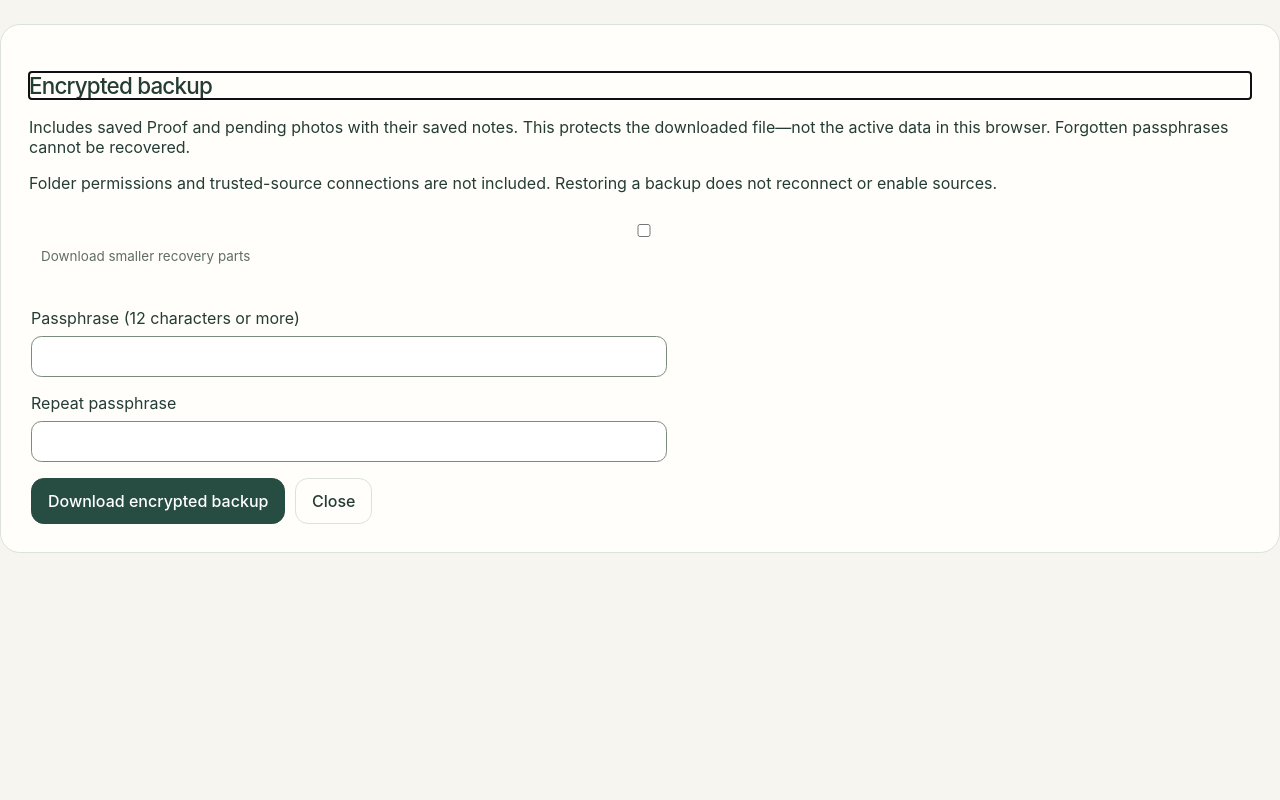
Test: requires a separate click per encrypted recovery part and only declares preparation complete at the end
Click the checkbox labelled "Download smaller recovery parts".
click(644, 231)  # box [45,224,1243,237]
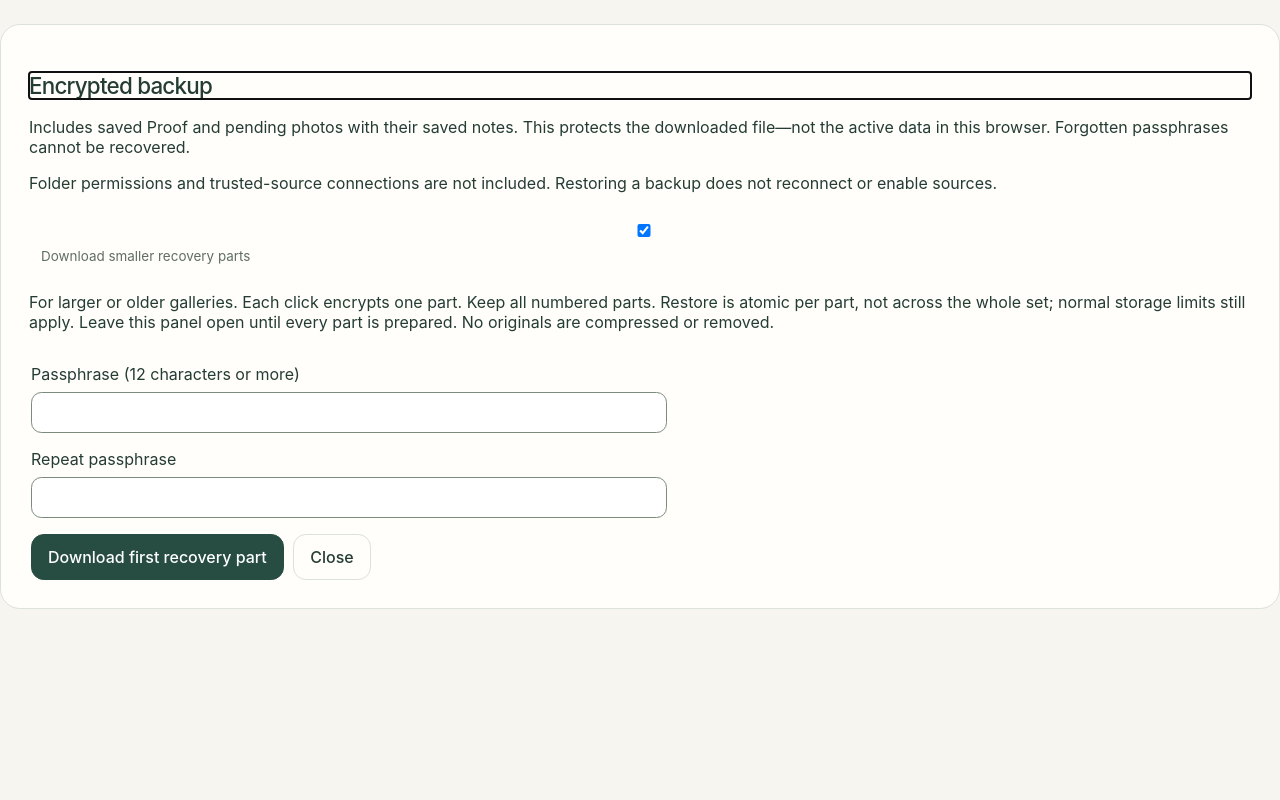
Type "synthetic long password" into the password field labelled "Passphrase (12 characters or more)".
click(349, 413); type("synthetic long password")  # box [31,392,667,433]
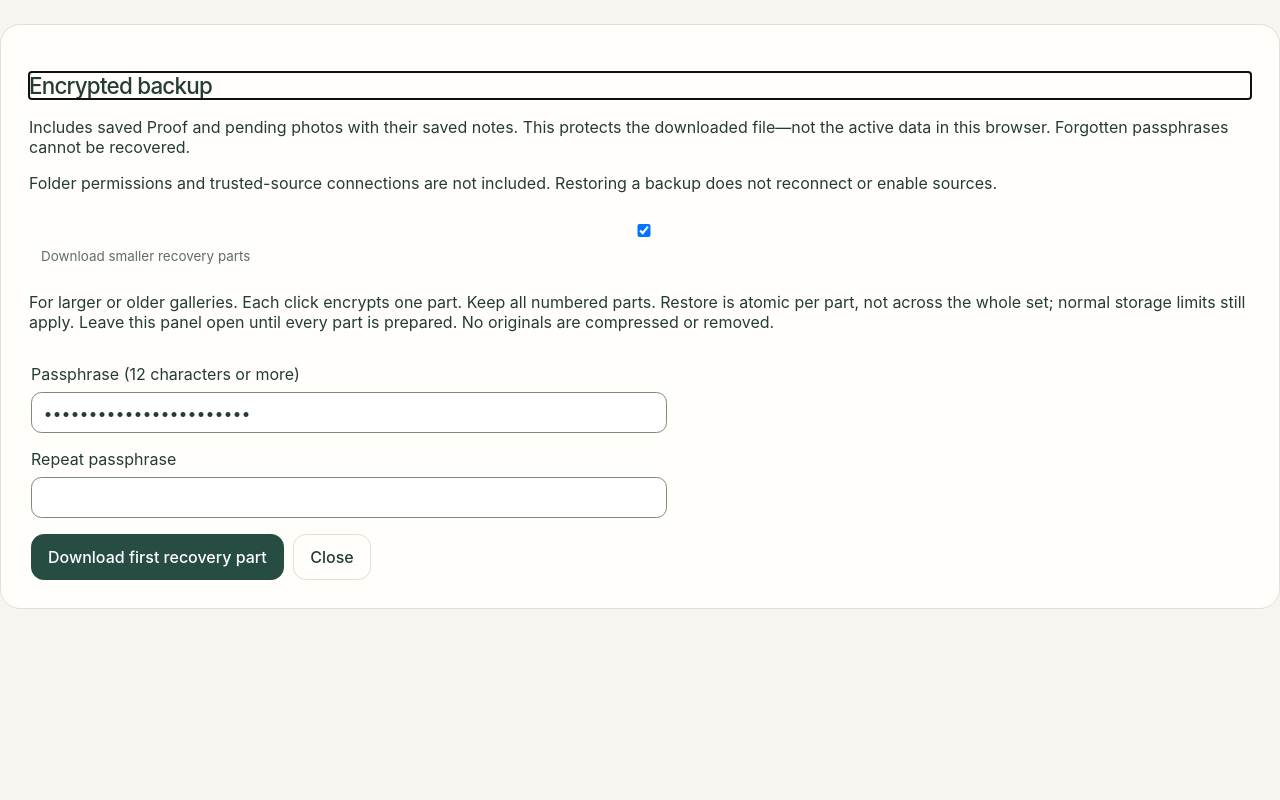
Type "synthetic long password" into the password field labelled "Repeat passphrase".
click(349, 497); type("synthetic long password")  # box [31,477,667,518]
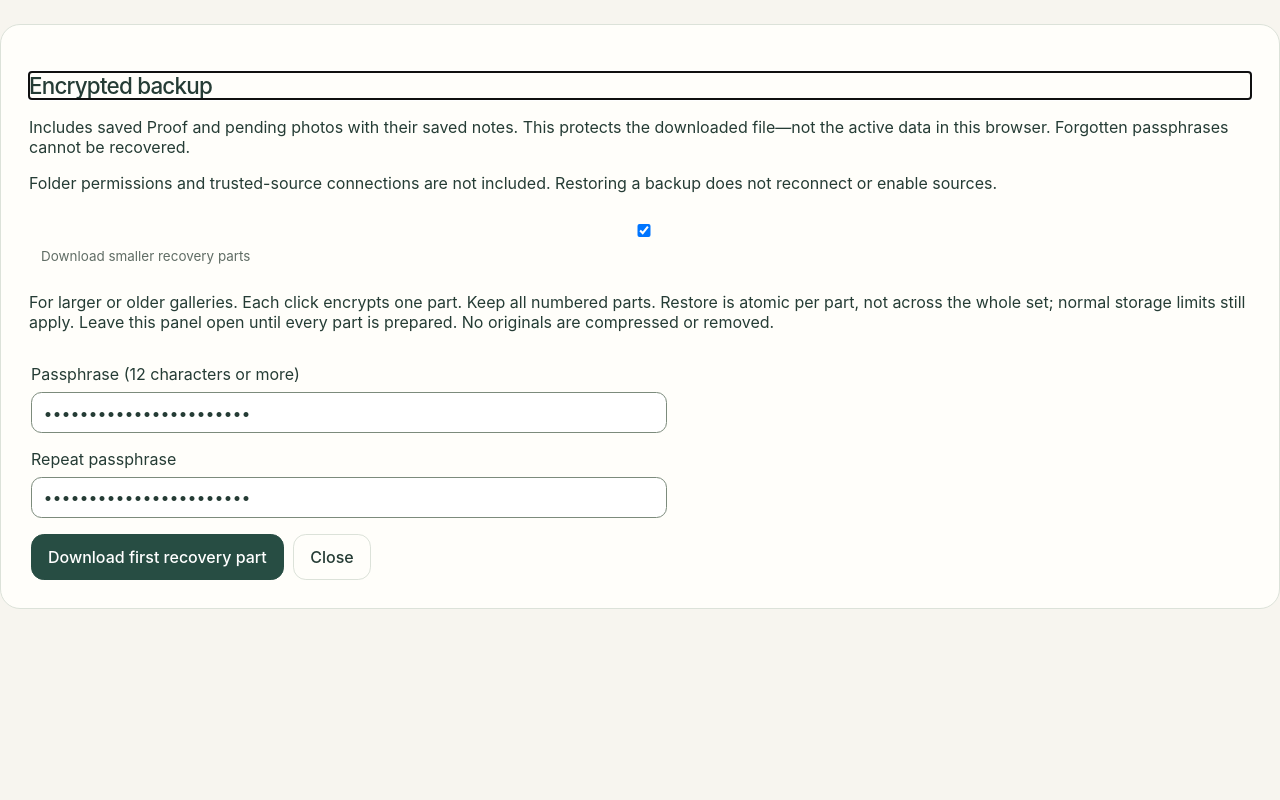
Click the button "Download first recovery part".
click(157, 557)  # box [31,534,284,580]
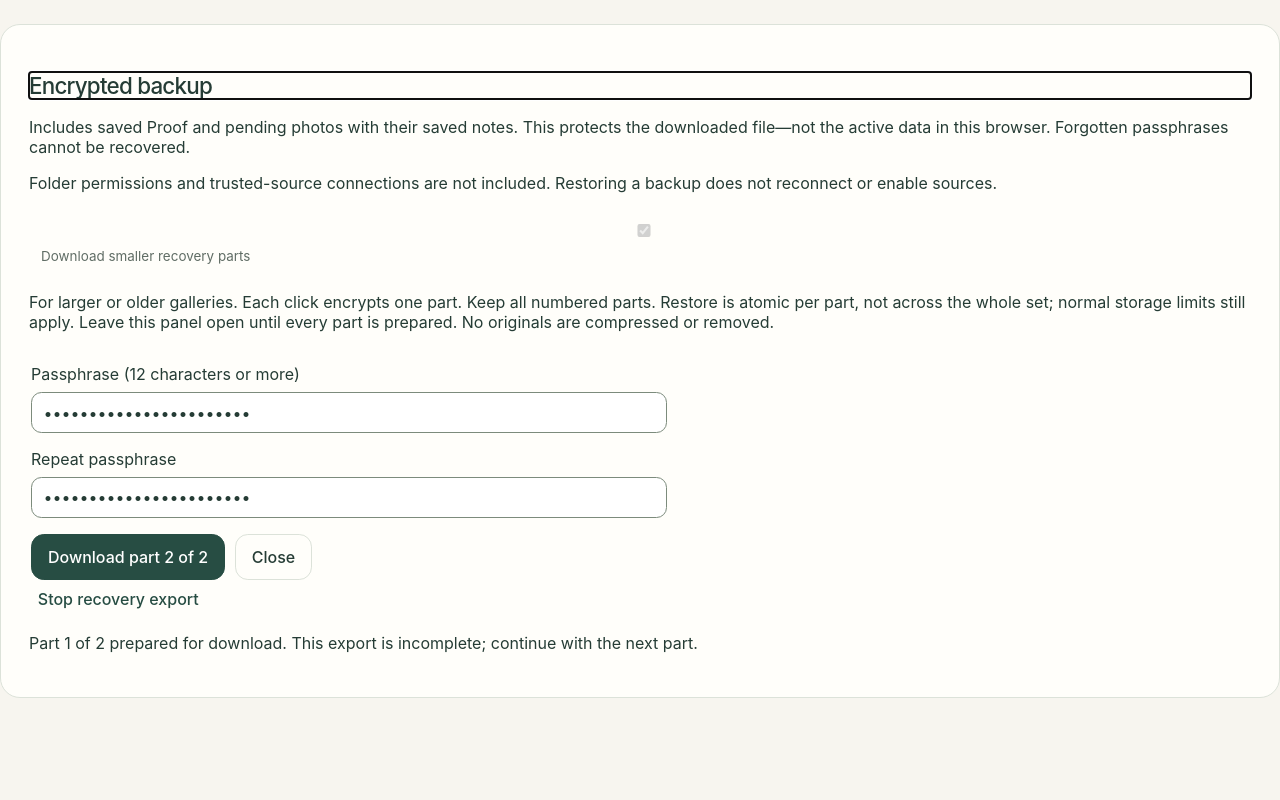
Expected: the password field labelled "Passphrase (12 characters or more)" is disabled, [31,392,667,433]
Now the text "Part 1 of 2 prepared" is shown, box [29,633,698,653]
Click the button "Download part 2 of 2".
click(128, 557)  # box [31,534,225,580]
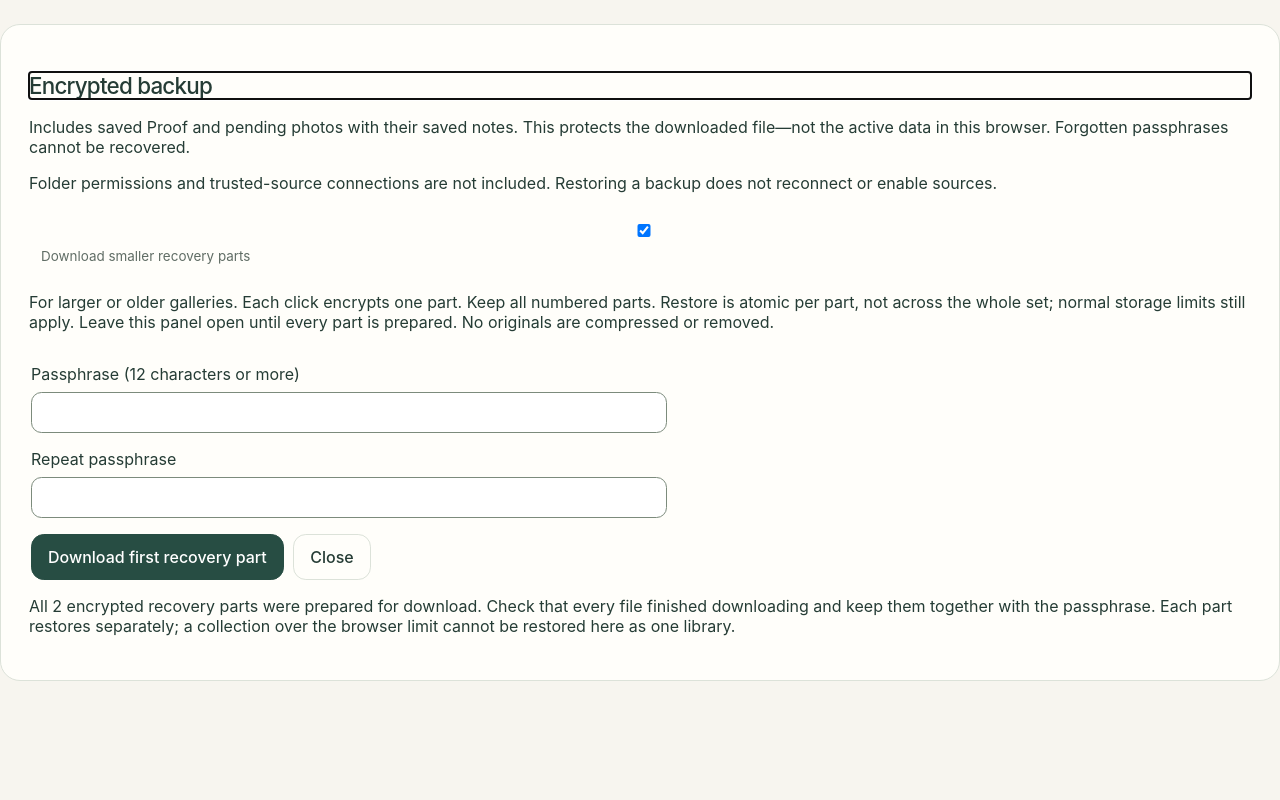
Now the text "All 2 encrypted recovery parts" is shown, box [29,596,1232,636]
Now the password field labelled "Passphrase (12 characters or more)" is empty, box [31,392,667,433]
